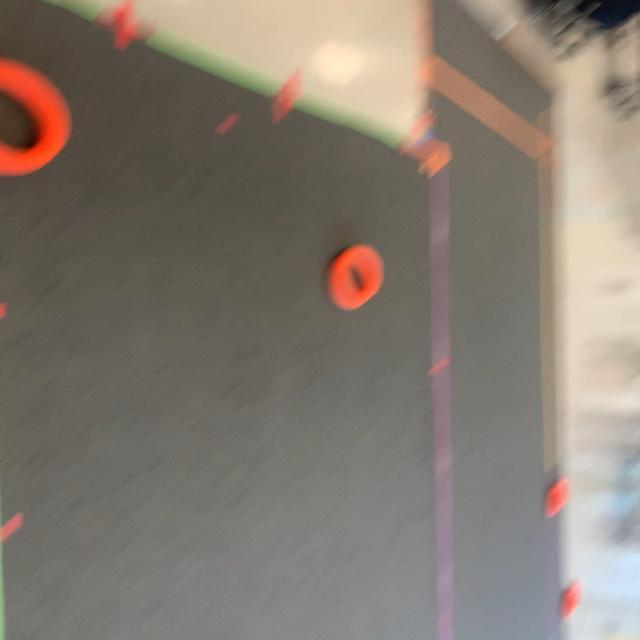notes: (0, 56, 72, 176), (328, 247, 387, 307), (547, 477, 569, 518), (565, 580, 586, 622)
